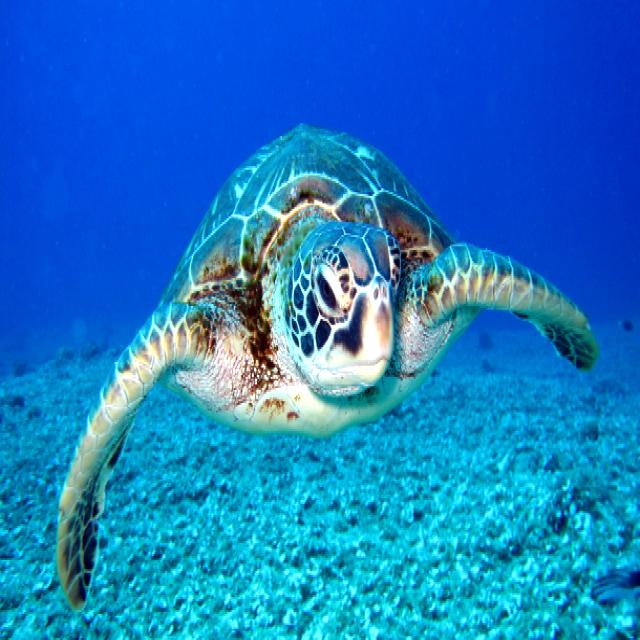Sea turtle: (48, 126, 604, 622)
